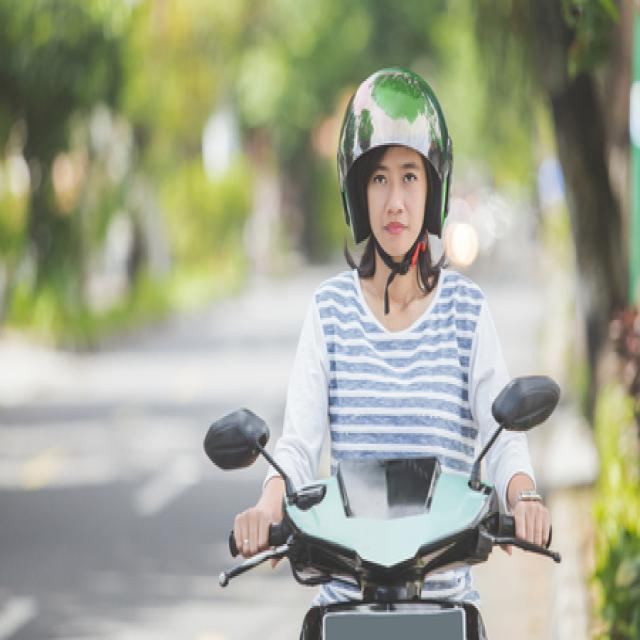helmet: (337, 67, 454, 242)
